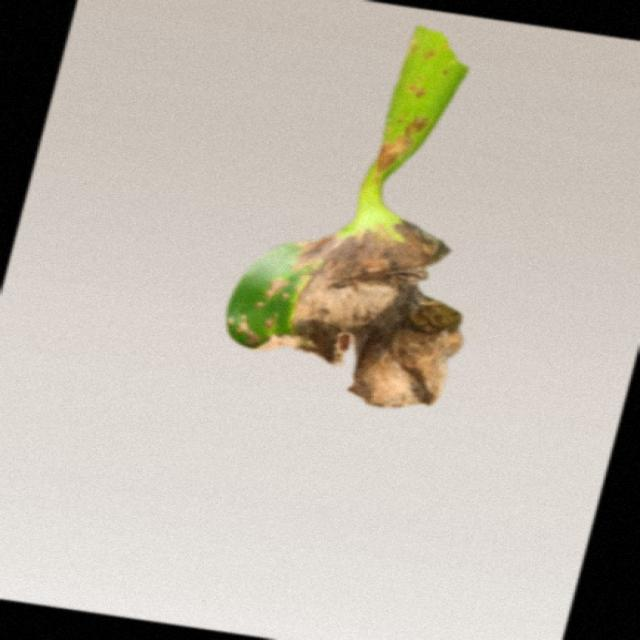daun berpenyakit karat: (227, 26, 466, 407)
